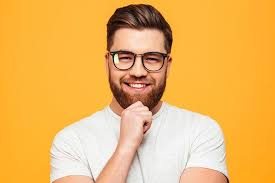g.y: (143, 51, 166, 74)
